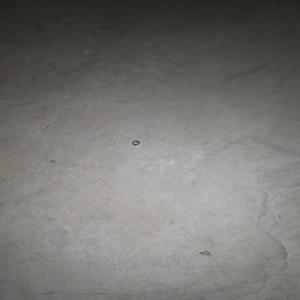Nut: (130, 140, 139, 146)
